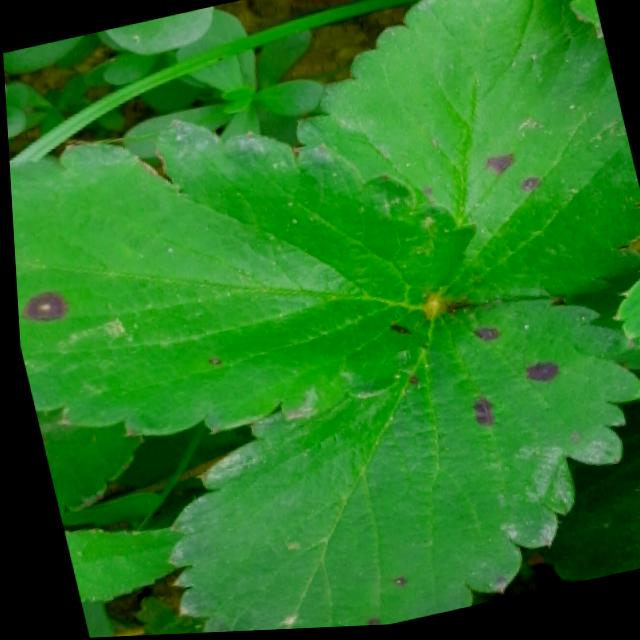Leaf Spot: (157, 299, 640, 634), (7, 119, 477, 441), (292, 0, 640, 310), (558, 0, 603, 44)
